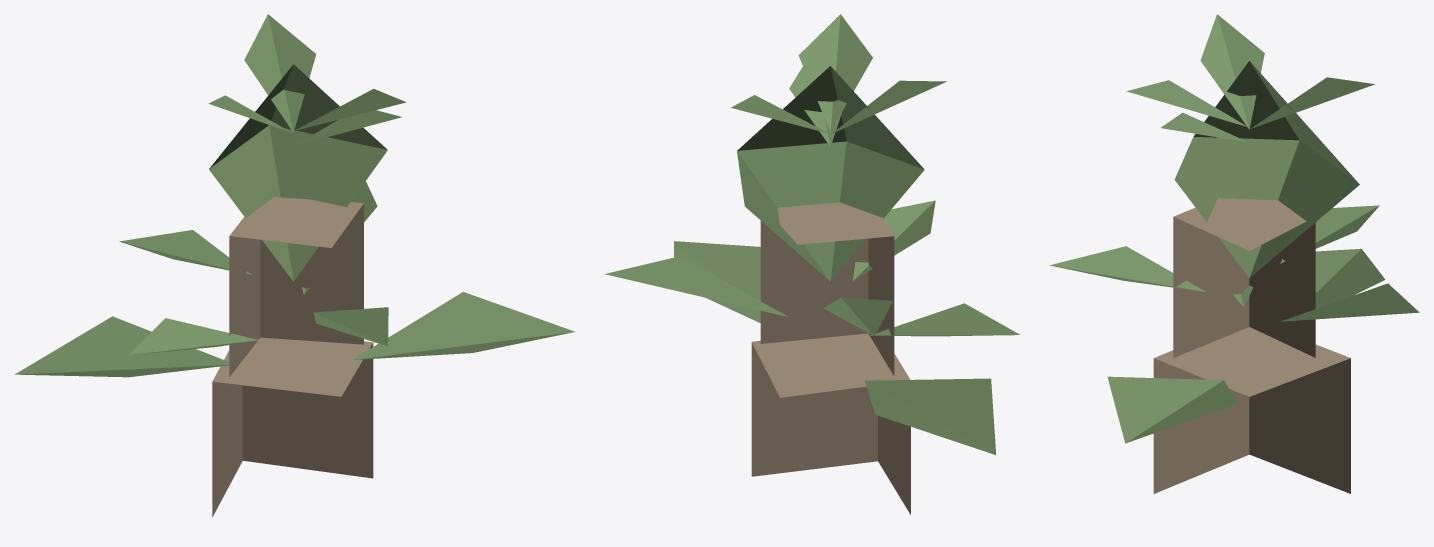
Rendered from hua.lan@seedling__summer.glb.
The picture shows the model from 3 angles, left to right: view 1: azimuth 30°, elevation 25°; view 2: azimuth 150°, elevation 25°; view 3: azimuth 270°, elevation 25°; orthographic projection.
Visible parts, largest first — view 1: hua.lan@seedling__summer; view 2: hua.lan@seedling__summer; view 3: hua.lan@seedling__summer.
Part boxes in pixels (x1=…): hua.lan@seedling__summer: x1=15, y1=14, x2=575, y2=517; hua.lan@seedling__summer: x1=604, y1=14, x2=1019, y2=514; hua.lan@seedling__summer: x1=1049, y1=14, x2=1419, y2=493.
Size of the model in its own units: 0.0845 by 0.079 by 0.0613.
